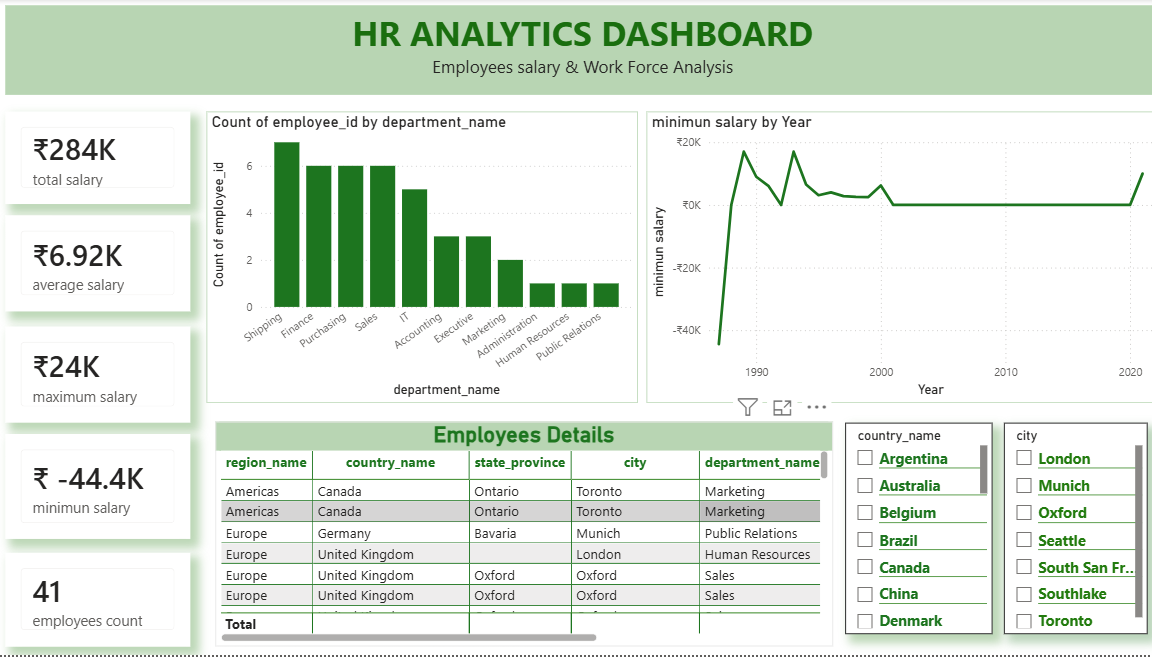

The dashboard page shown, as its layout file describes it:
{"tool":"powerbi","page":{"name":"Page 1","canvas":[1280,720],"ordinal":0},"visuals":[{"type":"cardVisual","fields":{"Data":["Employees.total salary"]},"box":[12.3,123.5,203.1,101.5],"z":0},{"type":"cardVisual","fields":{"Data":["Employees.average salary"]},"box":[12.3,237.4,203.1,105.7],"z":1},{"type":"cardVisual","fields":{"Data":["Employees.maximum salary"]},"box":[12.3,359.5,203.1,105.7],"z":2},{"type":"cardVisual","fields":{"Data":["Employees.minimun salary"]},"box":[12.3,477.5,203.1,115.3],"z":3},{"type":"cardVisual","fields":{"Data":["Employees.employees count"]},"box":[12.3,607.9,203.1,102.9],"z":4},{"type":"textbox","box":[12.3,6.9,1267.9,98.8],"z":5},{"type":"columnChart","fields":{"Category":["Departments.department_name"],"Y":["CountNonNull(Employees.employee_id)"]},"box":[233.3,123.5,473.4,319.7],"z":6},{"type":"lineChart","fields":{"Category":["Employees.hire_date.Variation.Date Hierarchy.Year"],"Y":["Employees.minimun salary"]},"box":[716.3,123.5,564,319.7],"z":7},{"type":"tableEx","title":"Employees Details","fields":{"Values":["Region.region_name","Country.country_name","Locations.state_province","Locations.city","Departments.department_name","Employees.employee_id","Employees.first_name","Employees.last_name","Sum(Employees.salary)"]},"box":[242.9,463.8,677.9,247],"z":8},{"type":"slicer","fields":{"Values":["Country.country_name"]},"box":[934.5,465.2,161.9,231.9],"z":9},{"type":"slicer","fields":{"Values":["Locations.city"]},"box":[1108.8,465.2,157.8,231.9],"z":10}]}

Visuals, with their boxes in screenshot pixels (x1, y1, x2, y2), scaled from the page's 1280x720 canvas onto the 1152x657 screenshot:
cardVisual - Employees.total salary: bbox=(11, 113, 194, 205)
cardVisual - Employees.average salary: bbox=(11, 217, 194, 313)
cardVisual - Employees.maximum salary: bbox=(11, 328, 194, 424)
cardVisual - Employees.minimun salary: bbox=(11, 436, 194, 541)
cardVisual - Employees.employees count: bbox=(11, 555, 194, 649)
textbox: bbox=(11, 6, 1151, 96)
columnChart - Departments.department_name x CountNonNull(Employees.employee_id): bbox=(210, 113, 636, 404)
lineChart - Employees.hire_date.Variation.Date Hierarchy.Year x Employees.minimun salary: bbox=(645, 113, 1151, 404)
"Employees Details" tableEx: bbox=(219, 423, 829, 649)
slicer - Country.country_name: bbox=(841, 424, 987, 636)
slicer - Locations.city: bbox=(998, 424, 1140, 636)
